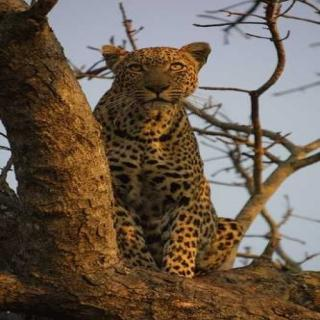Leopard: (87, 40, 224, 291)
